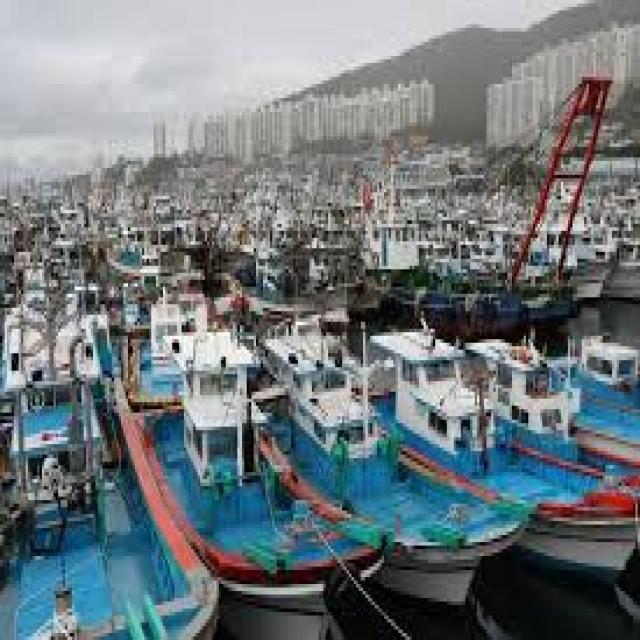Ship: (113, 330, 395, 631), (257, 312, 537, 613), (1, 322, 226, 640)
